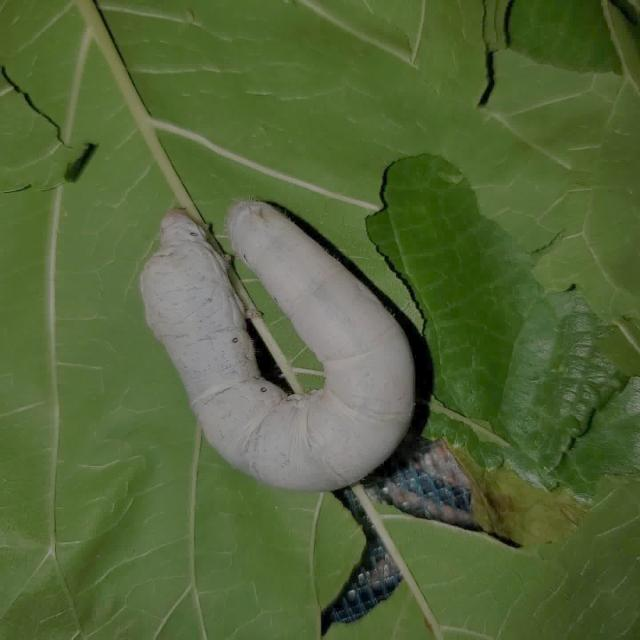Healthy: (137, 193, 422, 504)
